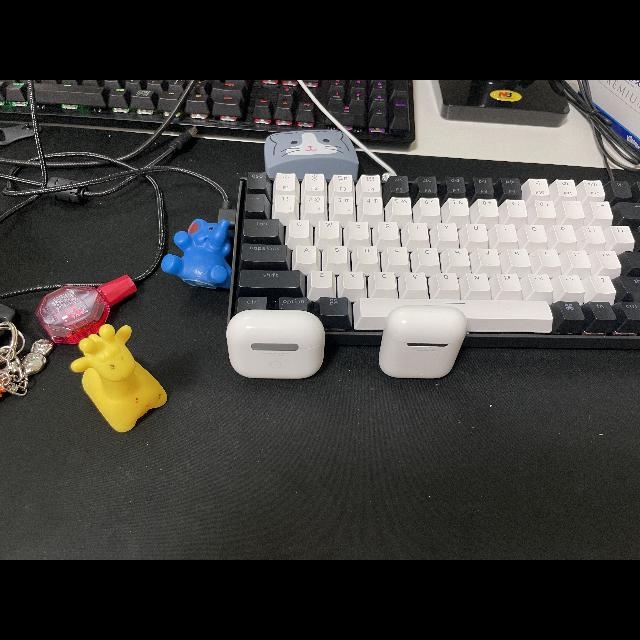airpod2: (374, 298, 470, 382)
airpod3: (225, 304, 331, 384)
